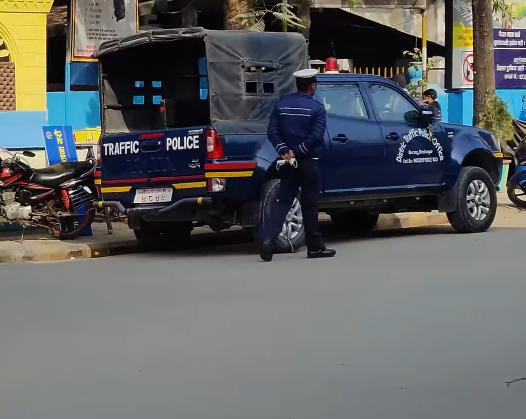police_vehicle: (94, 28, 509, 249)
